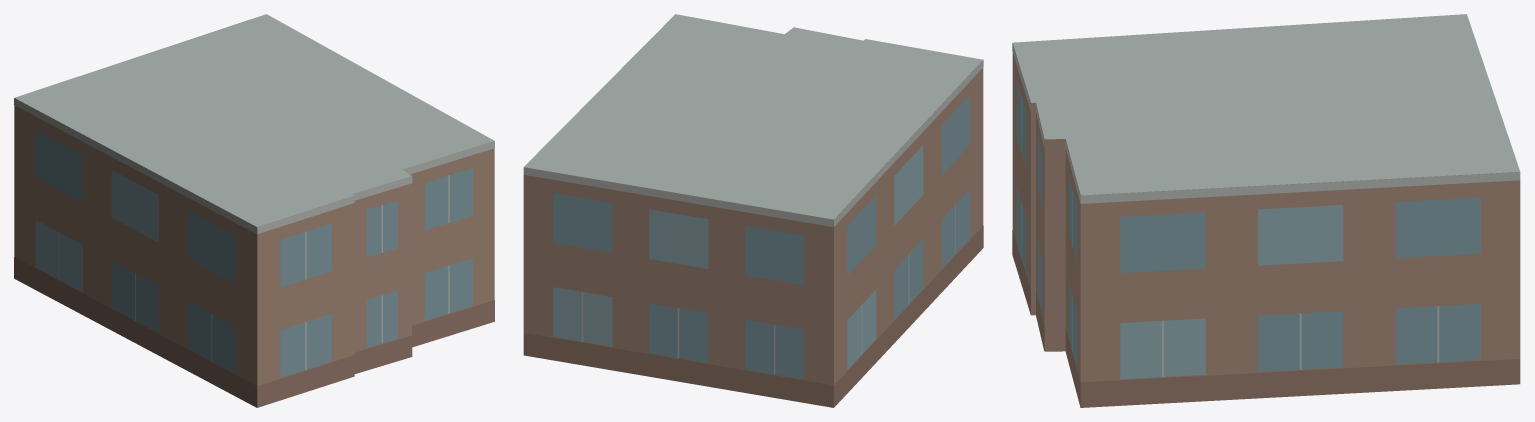
Rendered from survey-upis-32863249.glb.
3 views of the same model, side by side, from view 1: azimuth 30°, elevation 25°; view 2: azimuth 150°, elevation 25°; view 3: azimuth 270°, elevation 25° (orthographic). The views are drawn at different scales.
Visible parts, largest first — view 1: survey-upis-32863249.tmp; view 2: survey-upis-32863249.tmp; view 3: survey-upis-32863249.tmp.
Part boxes in pixels (<box>): survey-upis-32863249.tmp: <box>14,14,494,407</box>; survey-upis-32863249.tmp: <box>523,14,983,407</box>; survey-upis-32863249.tmp: <box>1012,14,1520,407</box>.
Bounding box in the file's own units: 11.19 × 6.1 × 13.23.
